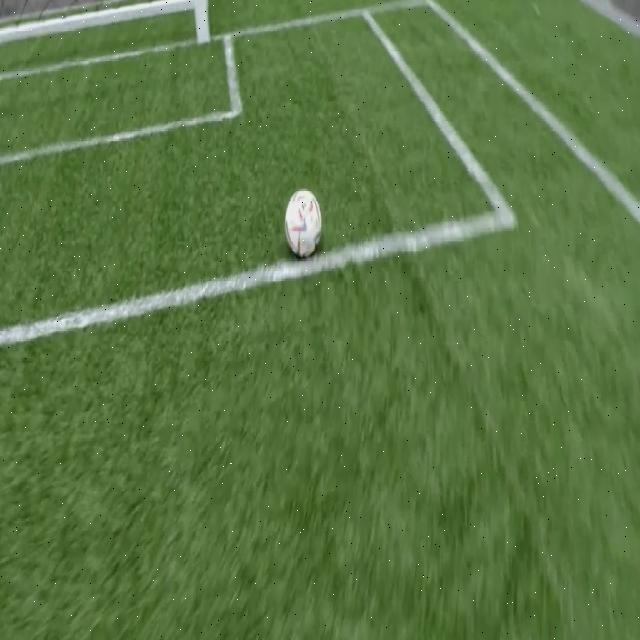ball: (285, 189, 321, 258)
goalpost: (192, 0, 212, 49)
